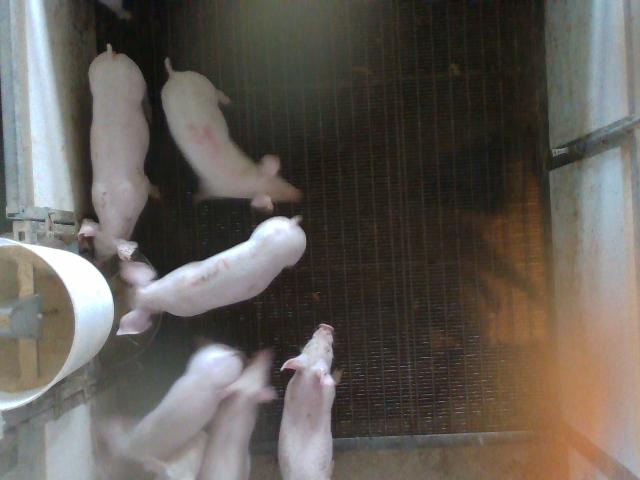pig-3: (118, 218, 306, 334)
pig-4: (161, 59, 301, 211)
